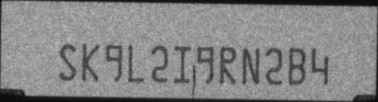2: (265, 44, 283, 85), (151, 44, 168, 83)
4: (311, 46, 329, 85)
9: (104, 44, 123, 84), (197, 46, 214, 83)
B: (287, 46, 305, 85)
I: (173, 44, 190, 82)
K: (81, 42, 100, 82)
L: (127, 42, 146, 82)
N: (241, 47, 260, 85)
R: (218, 45, 235, 84)
S: (59, 44, 77, 81)
